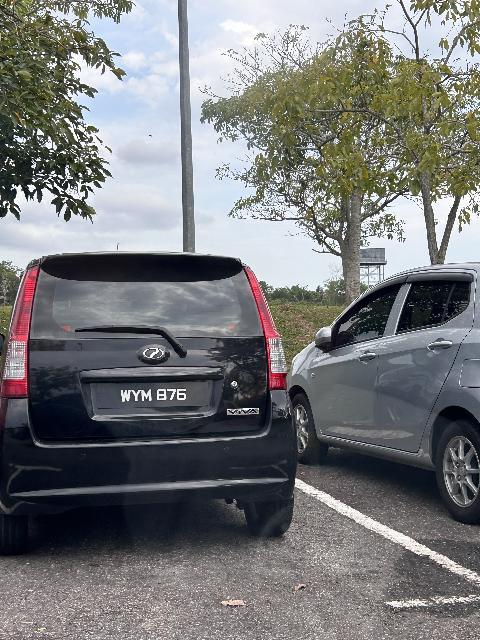License_Plate: (98, 379, 210, 411)
WYM876: (98, 379, 210, 411)
car: (7, 249, 300, 552)
